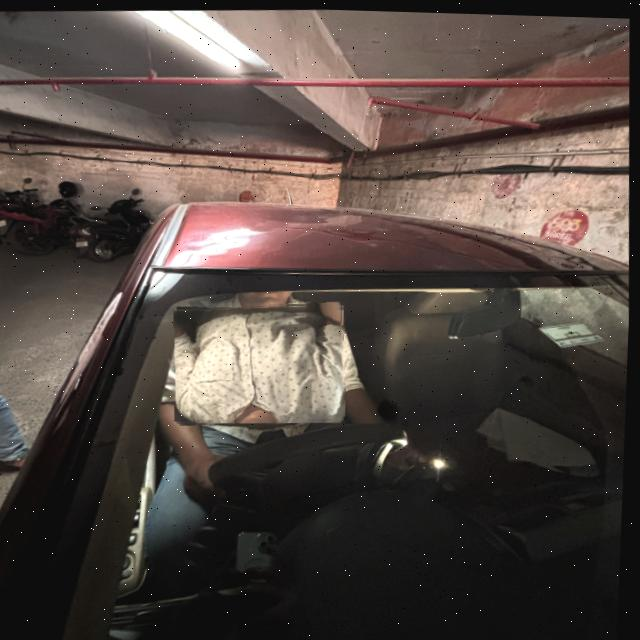no-seatbelt: (173, 296, 352, 426)
